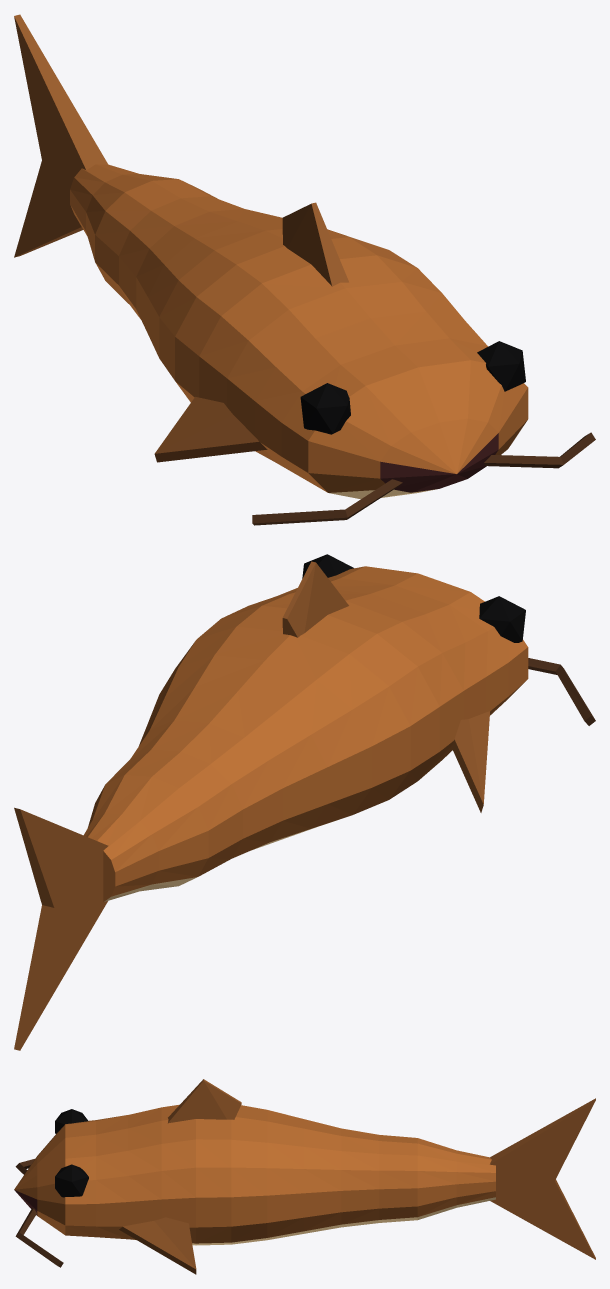
The model's file is FoeDigger.obj.
The picture shows the model from 3 angles, top to bottom: view 1: azimuth 30°, elevation 25°; view 2: azimuth 150°, elevation 25°; view 3: azimuth 270°, elevation 25°; orthographic projection. The views are drawn at different scales.
Parts seen in each view (by area): view 1: FoeDigger; view 2: FoeDigger; view 3: FoeDigger.
Part boxes in pixels (<box>): FoeDigger: <box>14,14,595,525</box>; FoeDigger: <box>14,554,595,1050</box>; FoeDigger: <box>14,1079,595,1274</box>.
Bounding box in the file's own units: 0.4466 × 0.3364 × 0.99.
